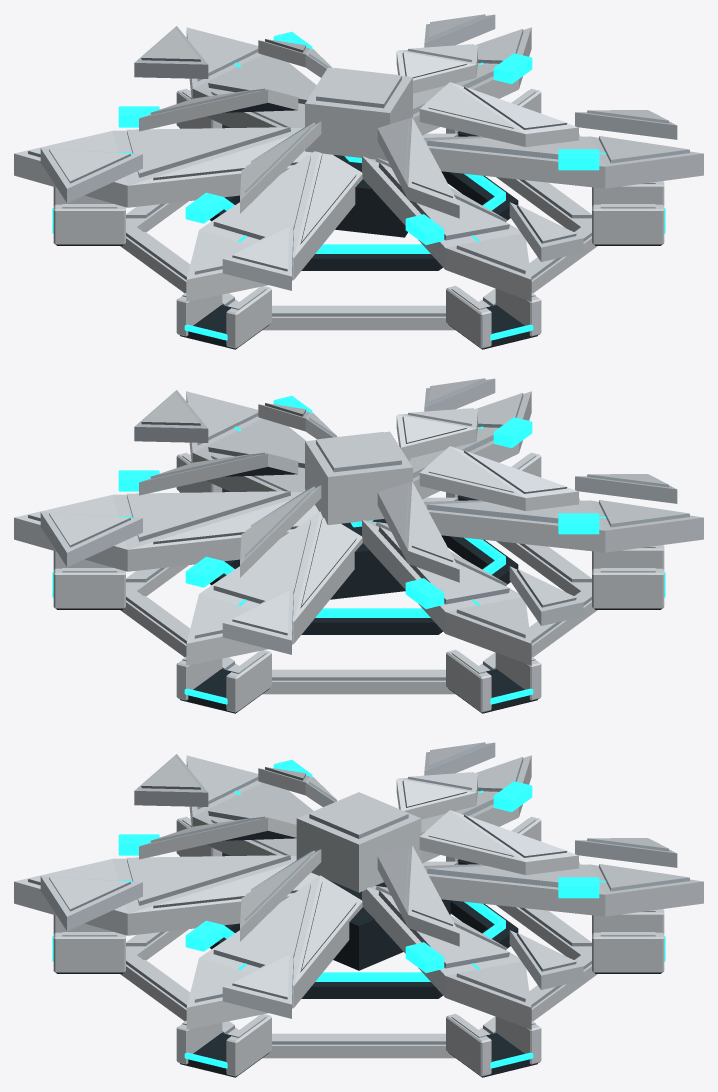
Rendered from 03_festung.glb.
3 views of the same model, one above another, from view 1: azimuth 30°, elevation 25°; view 2: azimuth 150°, elevation 25°; view 3: azimuth 270°, elevation 25° (orthographic).
Visible parts, largest first — view 1: Hull, service_rotor; view 2: Hull, service_rotor; view 3: Hull, service_rotor.
Part boxes in pixels (left/top/right/bottom): Hull: left=14, top=14, right=703, bottom=349; service_rotor: left=120, top=133, right=597, bottom=330; Hull: left=14, top=378, right=703, bottom=713; service_rotor: left=120, top=497, right=597, bottom=694; Hull: left=14, top=742, right=703, bottom=1077; service_rotor: left=120, top=861, right=597, bottom=1058.
Bounding box in the file's own units: 24.25 × 6.88 × 28.
